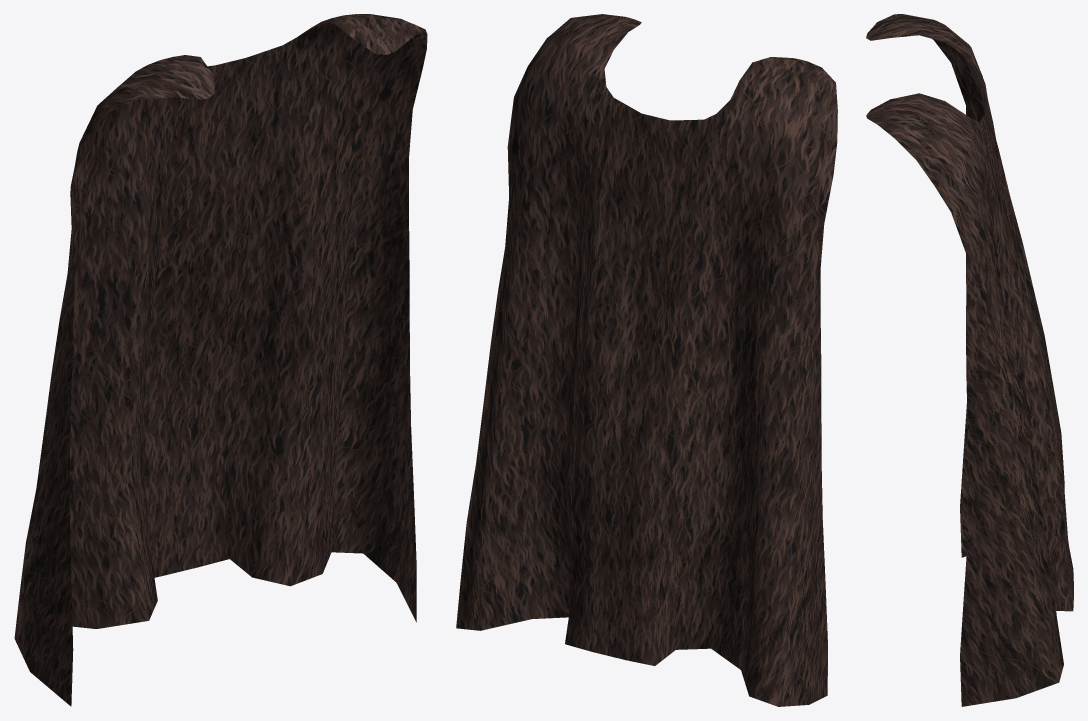
Rendered from clo_sk_dwarf_dain_pauldron_heavy_b.fbx.
3 renders of one model, left to right at view 1: azimuth 30°, elevation 25°; view 2: azimuth 150°, elevation 25°; view 3: azimuth 270°, elevation 25°, orthographic. The views are drawn at different scales.
Parts seen in each view (by area): view 1: clo_sk_dwarf_dain_pauldron_heavy_b; view 2: clo_sk_dwarf_dain_pauldron_heavy_b; view 3: clo_sk_dwarf_dain_pauldron_heavy_b.
Boxes of the visible parts, x1=… form: clo_sk_dwarf_dain_pauldron_heavy_b: x1=14, y1=14, x2=427, y2=706; clo_sk_dwarf_dain_pauldron_heavy_b: x1=456, y1=14, x2=837, y2=706; clo_sk_dwarf_dain_pauldron_heavy_b: x1=866, y1=14, x2=1073, y2=706.
Size of the model in its own units: 0.7281 by 0.4041 by 1.22.
Materials: 1 (1 with a texture image).
